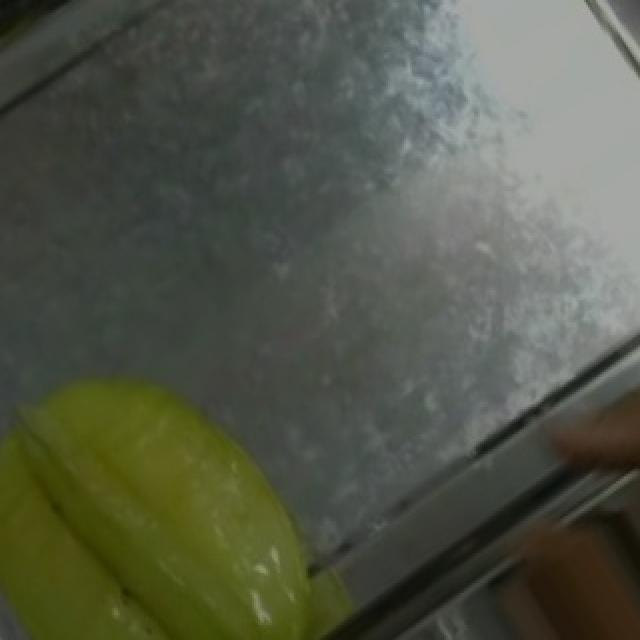fruit: (0, 340, 412, 640)
